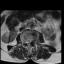CCS_normal: (27, 39, 29, 47)
LFS_normal: (30, 37, 32, 44)
LLS_normal: (29, 39, 30, 46)
RFS_normal: (24, 38, 26, 45)
RLS_normal: (26, 39, 27, 46)
